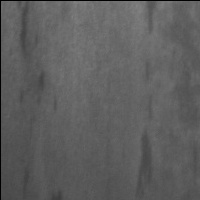inclusion: (11, 3, 54, 115), (167, 1, 200, 135), (133, 126, 162, 200), (141, 60, 162, 124), (143, 2, 161, 39), (18, 168, 32, 200), (141, 54, 155, 85)
